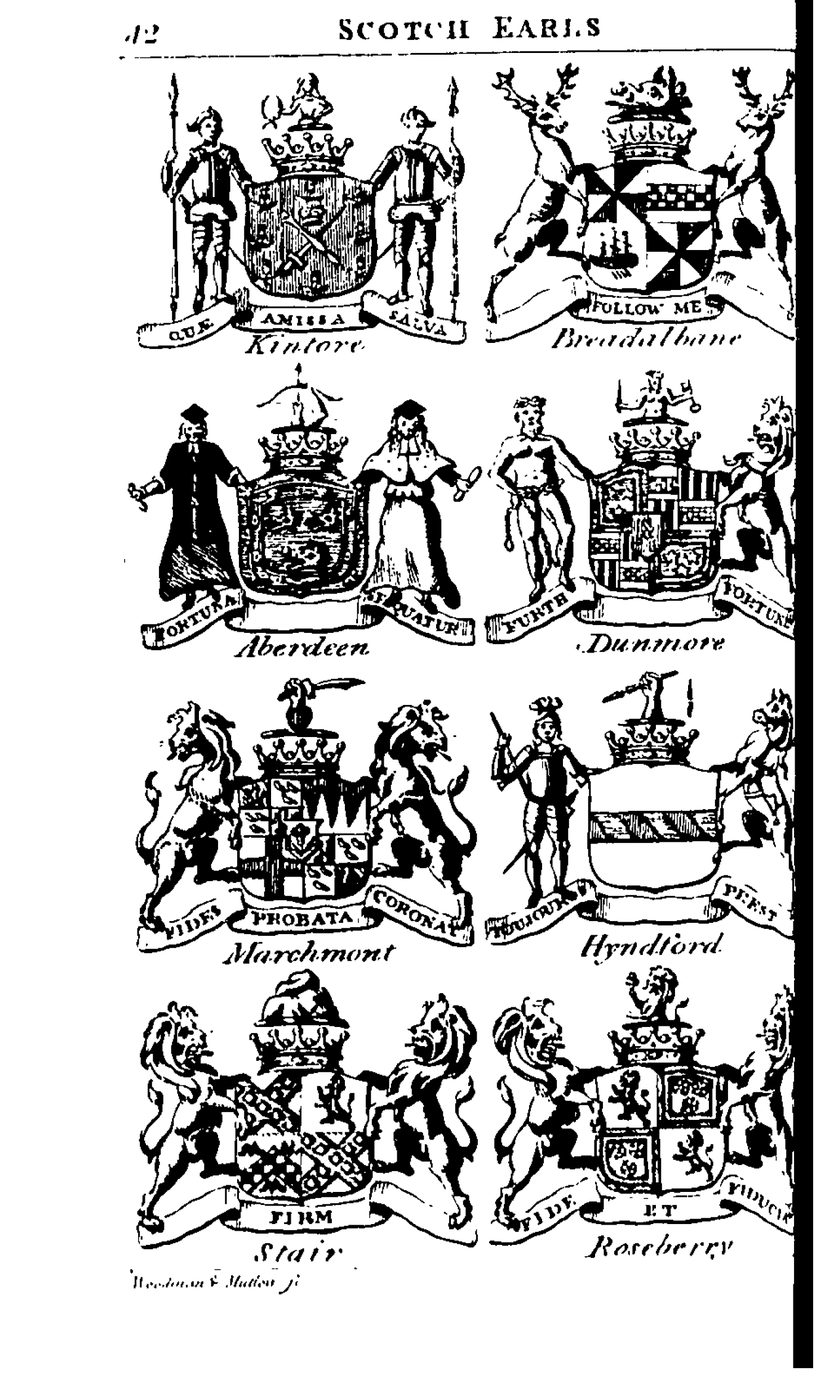coat_of_arms: (113, 51, 475, 363), (110, 367, 476, 672), (113, 982, 489, 1264), (126, 675, 472, 977), (480, 372, 834, 660), (478, 57, 806, 365), (481, 971, 802, 1264), (484, 663, 795, 965)
